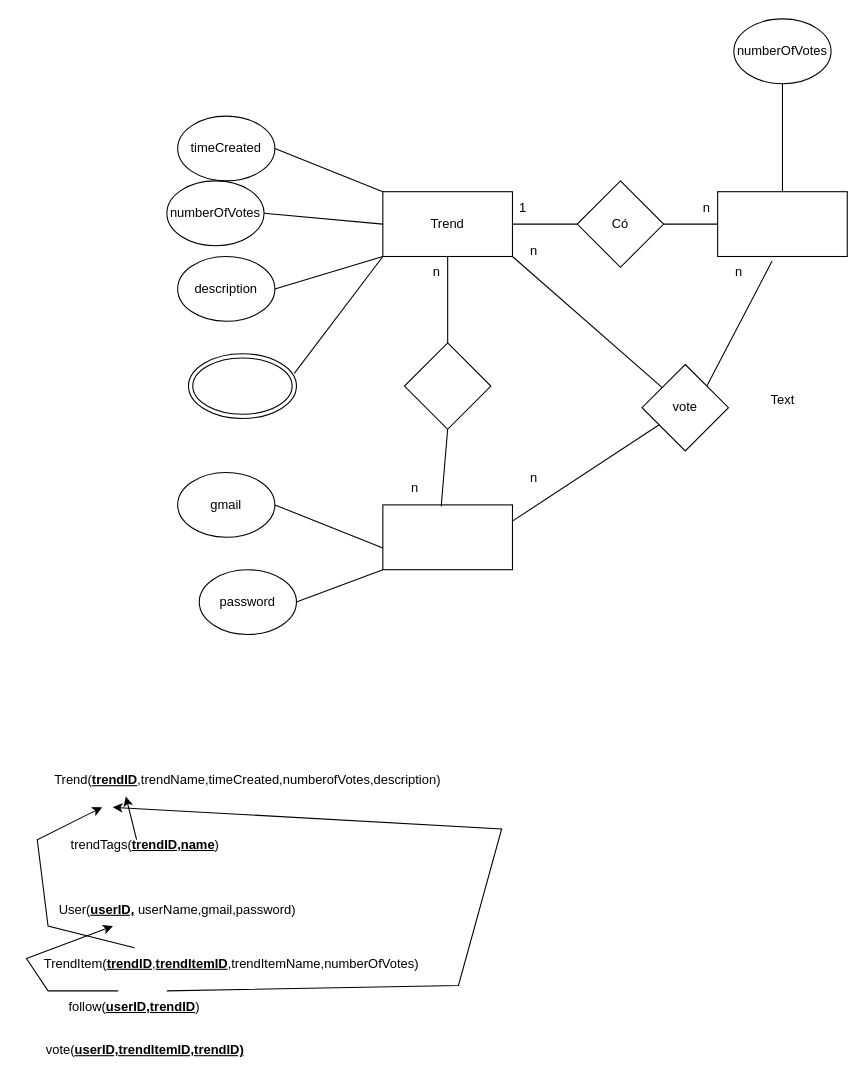
Some shapes in this 866 by 1085 pixel diagram are drawn without their labels. Each missing label, with the box of its shape:
follow: (403, 342, 491, 429)
TrendItem: (717, 191, 847, 256)
trendTags: (187, 353, 296, 418)
User: (382, 504, 512, 570)
